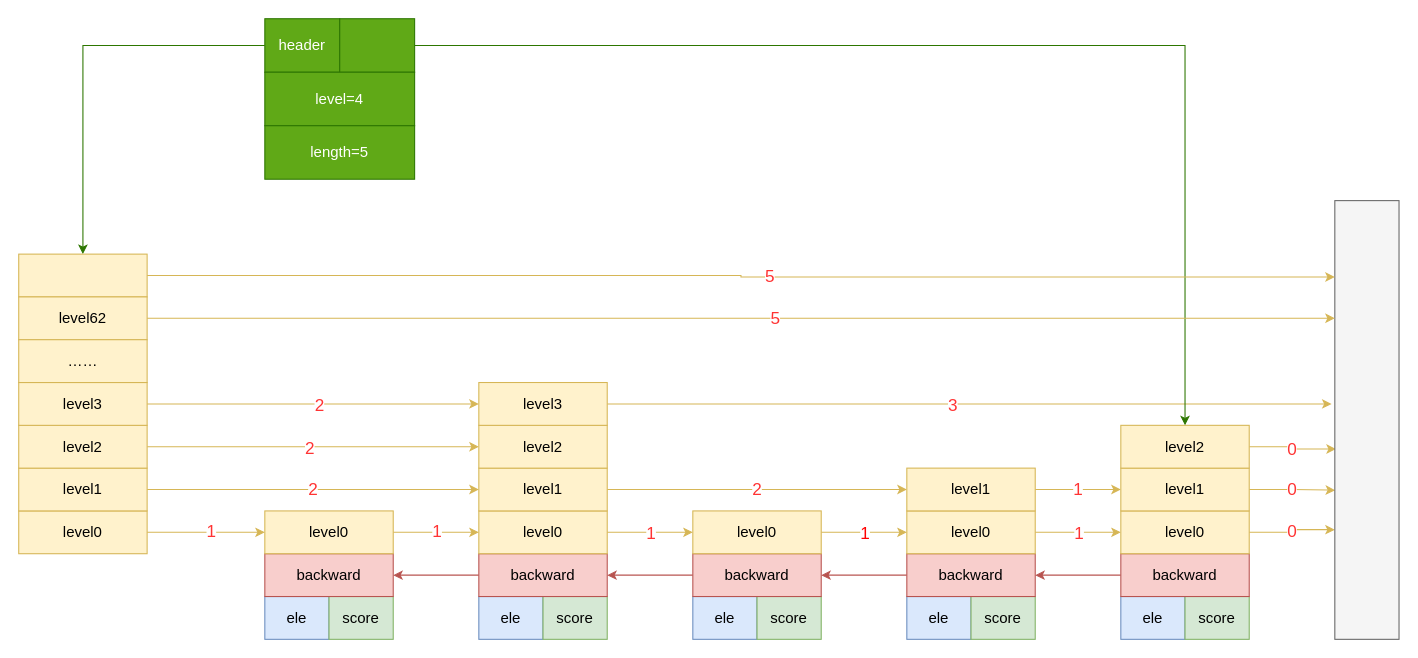
This 1418x658 diagram has some shape labels left out. The shapes that lost their labels are listed below. From the top down, each one's centre as x and y in pixels, then its label:
At point (377, 45): "tail".
At point (82, 275): "level63".
At point (1366, 419): "NULL".
